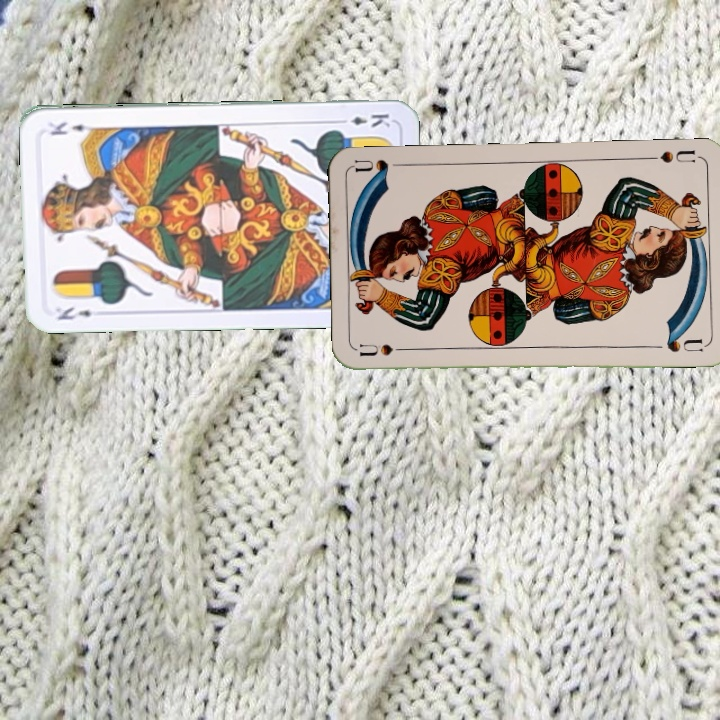EK: (334, 109, 393, 130), (53, 302, 94, 323)
SU: (357, 339, 416, 361), (642, 145, 701, 166)
